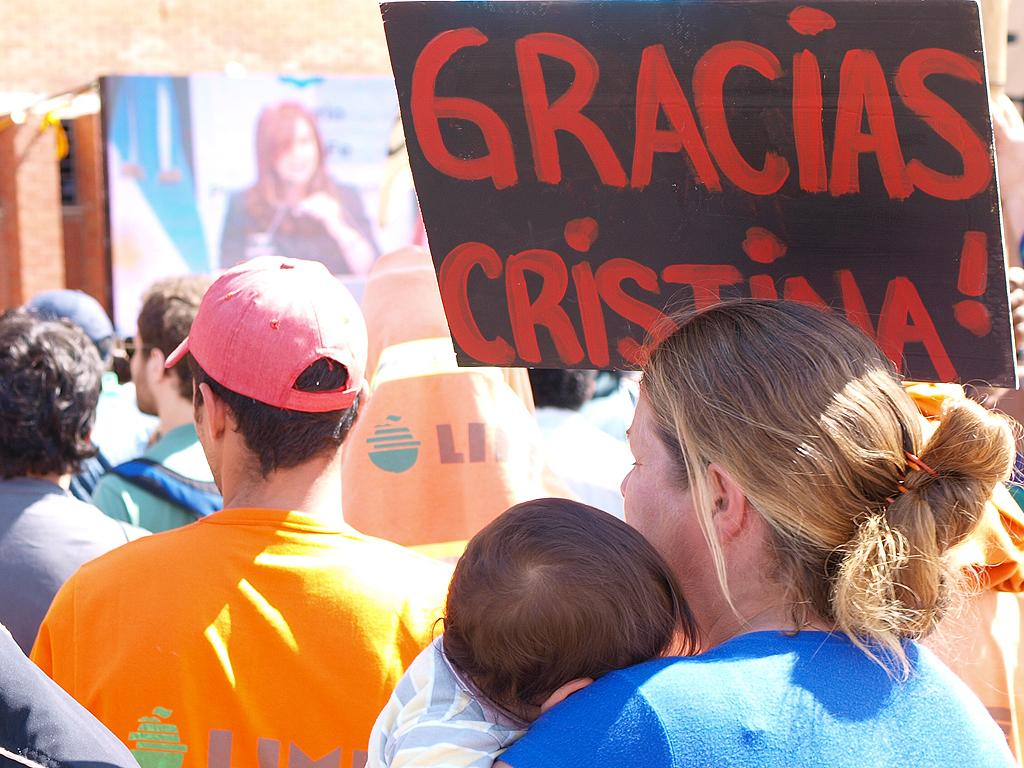Hat: (162, 252, 370, 412), (22, 288, 112, 364)
